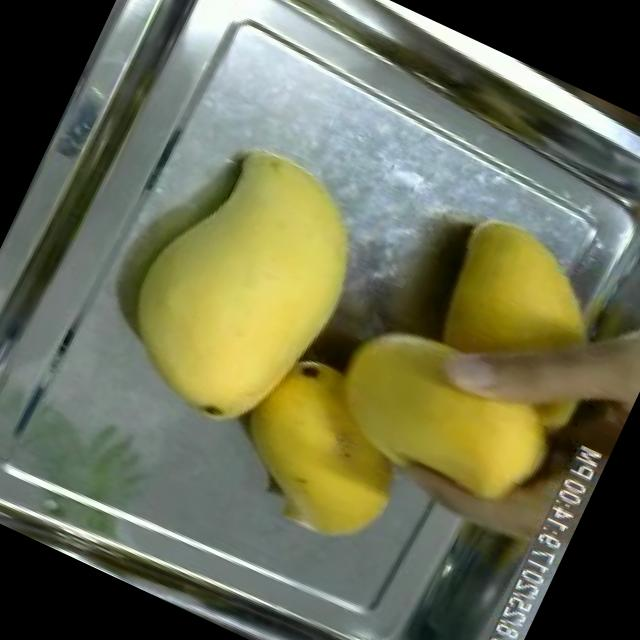fruit: (234, 268, 586, 612), (85, 103, 406, 463), (399, 186, 640, 427)
